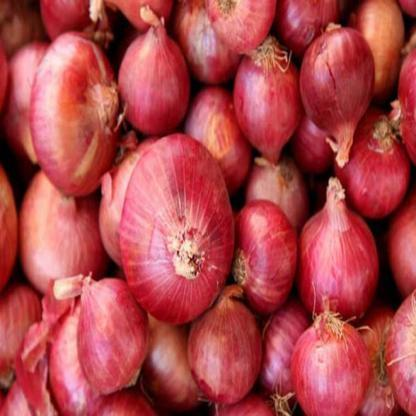onion: (119, 128, 230, 328), (28, 29, 120, 198), (300, 26, 384, 156), (294, 308, 380, 415)
